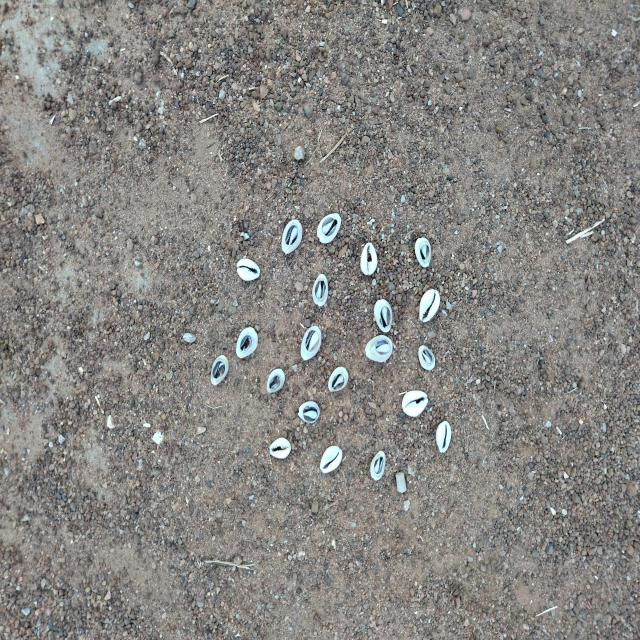facedown: (298, 324, 324, 364), (314, 211, 342, 247), (234, 324, 260, 361), (363, 333, 394, 364), (280, 218, 304, 255), (209, 353, 231, 388), (310, 270, 330, 308), (297, 396, 322, 426), (373, 299, 395, 333), (327, 365, 349, 397), (368, 448, 388, 482), (414, 236, 434, 269), (416, 342, 437, 372), (266, 366, 286, 396)
faceup: (316, 443, 346, 475), (400, 387, 430, 419), (418, 286, 441, 324), (235, 256, 262, 283), (359, 242, 379, 276), (268, 435, 294, 461), (435, 420, 453, 455)
